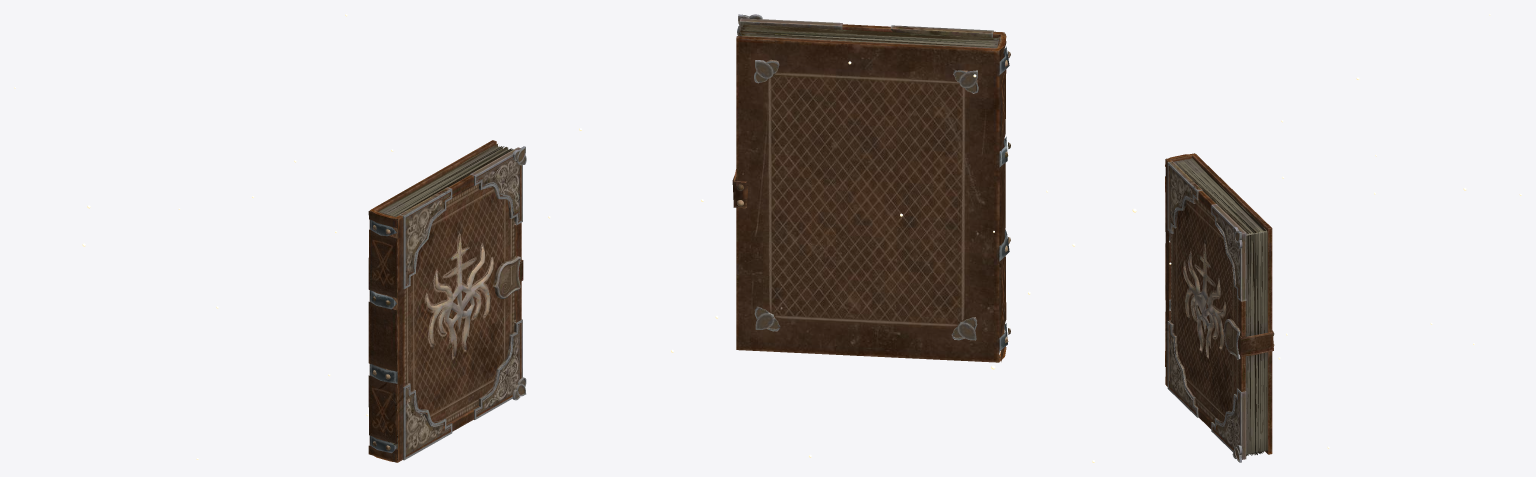
The model's file is book1.glb.
The picture shows the model from 3 angles, left to right: view 1: azimuth 30°, elevation 25°; view 2: azimuth 150°, elevation 25°; view 3: azimuth 270°, elevation 25°; orthographic projection. The views are drawn at different scales.
Parts seen in each view (by area): view 1: base_low, centr_low, edge11_low, edge2_low, edge1_low, edge22_low, pages_low, pages_opacity_low, belt_metal_low; view 2: base_low, pages_opacity_low, pages_low, edge11_low, edge2_low; view 3: base_low, pages_low, pages_opacity_low, centr_low, edge2_low, edge11_low, edge22_low, edge1_low, belt_low, belt_metal_low.
Part boxes in pixels (box(x1,y1,x2,y2)): base_low: box(368, 140, 521, 462); centr_low: box(426, 237, 493, 356); edge11_low: box(399, 187, 452, 289); edge2_low: box(470, 147, 522, 225); edge1_low: box(403, 383, 452, 460); edge22_low: box(473, 319, 522, 419); pages_low: box(379, 146, 507, 458); pages_opacity_low: box(379, 144, 513, 449); belt_metal_low: box(493, 256, 520, 298); base_low: box(736, 24, 1009, 362); pages_opacity_low: box(738, 24, 1000, 357); pages_low: box(741, 31, 1000, 352); edge11_low: box(890, 25, 993, 37); edge2_low: box(739, 18, 842, 31); base_low: box(1165, 153, 1272, 454); pages_low: box(1174, 158, 1267, 454); pages_opacity_low: box(1176, 160, 1266, 455); centr_low: box(1183, 248, 1225, 357); edge2_low: box(1211, 204, 1246, 301); edge11_low: box(1167, 161, 1202, 233); edge22_low: box(1211, 388, 1246, 459); edge1_low: box(1167, 320, 1198, 417); belt_low: box(1237, 330, 1273, 356); belt_metal_low: box(1223, 318, 1240, 359).
Bounding box in the file's own units: 0.4649 × 0.359 × 0.4027.
Materials: 2 (1 with a texture image).
